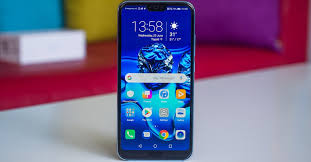huawei: (116, 1, 197, 160)
